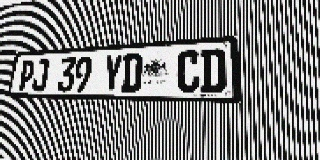3: (57, 57, 76, 92)
9: (73, 56, 93, 92)
C: (176, 50, 200, 93)
D: (201, 48, 226, 93), (121, 53, 143, 92)
J: (31, 59, 50, 92)
P: (17, 60, 35, 91)
Y: (102, 54, 123, 92)
